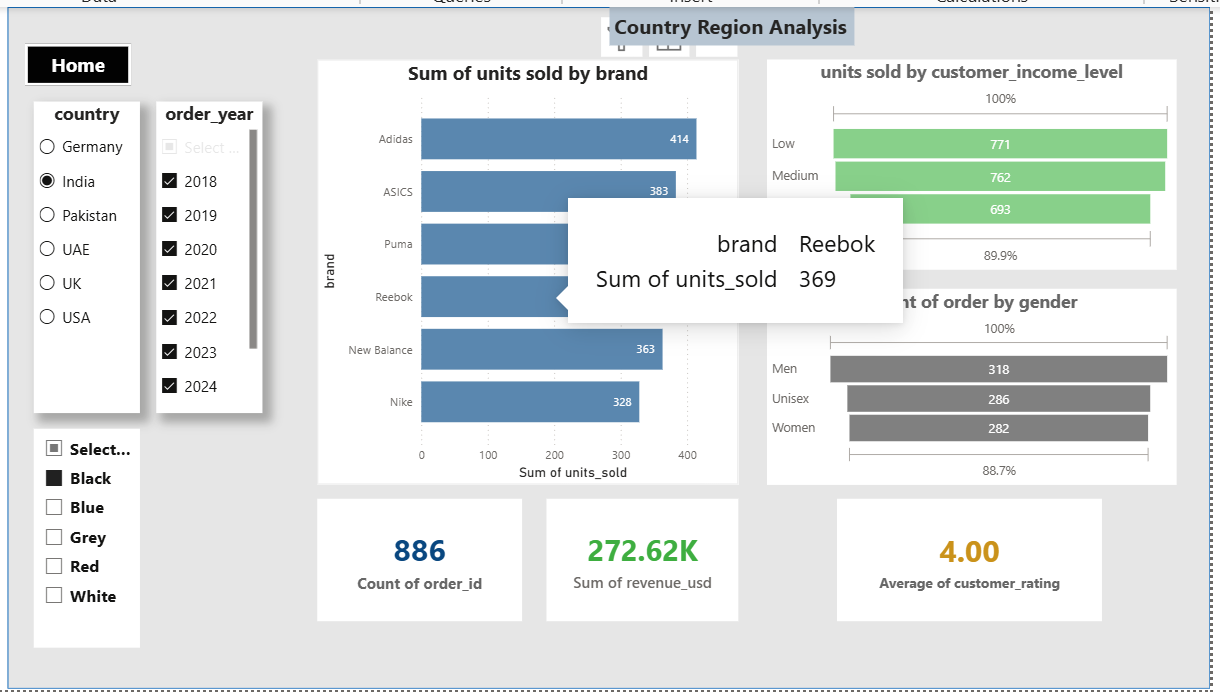

The dashboard page shown, as its layout file describes it:
{"tool":"powerbi","page":{"name":"Country-Region_Analysis","canvas":[1280,720],"ordinal":5},"visuals":[{"type":"shape","box":[11.6,0,1268.4,719],"z":0},{"type":"listSlicer","fields":{"Values":["global_footwear_cleaned_data.country"]},"box":[39.6,100.2,111.8,328.5],"z":1000},{"type":"barChart","title":"Sum of units sold by brand","fields":{"Category":["global_footwear_cleaned_data.brand"],"Y":["Sum(global_footwear_cleaned_data.units_sold)"]},"box":[337.7,55.4,444.8,448.5],"z":2000},{"type":"funnel","title":"units sold by customer_income_level","fields":{"Category":["global_footwear_cleaned_data.customer_income_level"],"Y":["Sum(global_footwear_cleaned_data.units_sold)"]},"box":[812,55.4,431.8,221.5],"z":3000},{"type":"funnel","title":"Count of order by gender","fields":{"Category":["global_footwear_cleaned_data.gender"],"Y":["CountNonNull(global_footwear_cleaned_data.order_id)"]},"box":[812,297.1,431.8,206.7],"z":4000},{"type":"card","fields":{"Values":["Sum(global_footwear_cleaned_data.revenue_usd)"]},"box":[580.2,518.6,202.4,129.2],"z":5000},{"type":"card","fields":{"Values":["CountNonNull(global_footwear_cleaned_data.order_id)"]},"box":[337.3,518.6,215.9,129.2],"z":6000},{"type":"slicer","fields":{"Values":["global_footwear_cleaned_data.color"]},"box":[39.6,445,111.8,230.6],"z":7000},{"type":"card","fields":{"Values":["Avg(global_footwear_cleaned_data.customer_rating)"]},"box":[886.7,518.6,279.5,129.2],"z":8000},{"type":"listSlicer","fields":{"Values":["global_footwear_cleaned_data.order_year"]},"box":[167.7,100.2,111.8,328.5],"z":9000},{"type":"actionButton","box":[30.3,39.6,111.8,44.3],"z":10000},{"type":"textbox","box":[645.8,0,258.3,40.5],"z":11000}]}

Visuals, with their boxes on the page's 1280x720 design canvas (x1, y1, x2, y2). These are canvas units, not pixel positions in the 1220x692 screenshot, which may show the page scaled, cropped or inside an application window:
shape: x1=12, y1=0, x2=1280, y2=719
listSlicer - global_footwear_cleaned_data.country: x1=40, y1=100, x2=151, y2=429
"Sum of units sold by brand" barChart: x1=338, y1=55, x2=782, y2=504
"units sold by customer_income_level" funnel: x1=812, y1=55, x2=1244, y2=277
"Count of order by gender" funnel: x1=812, y1=297, x2=1244, y2=504
card - Sum(global_footwear_cleaned_data.revenue_usd): x1=580, y1=519, x2=783, y2=648
card - CountNonNull(global_footwear_cleaned_data.order_id): x1=337, y1=519, x2=553, y2=648
slicer - global_footwear_cleaned_data.color: x1=40, y1=445, x2=151, y2=676
card - Avg(global_footwear_cleaned_data.customer_rating): x1=887, y1=519, x2=1166, y2=648
listSlicer - global_footwear_cleaned_data.order_year: x1=168, y1=100, x2=280, y2=429
actionButton: x1=30, y1=40, x2=142, y2=84
textbox: x1=646, y1=0, x2=904, y2=40
